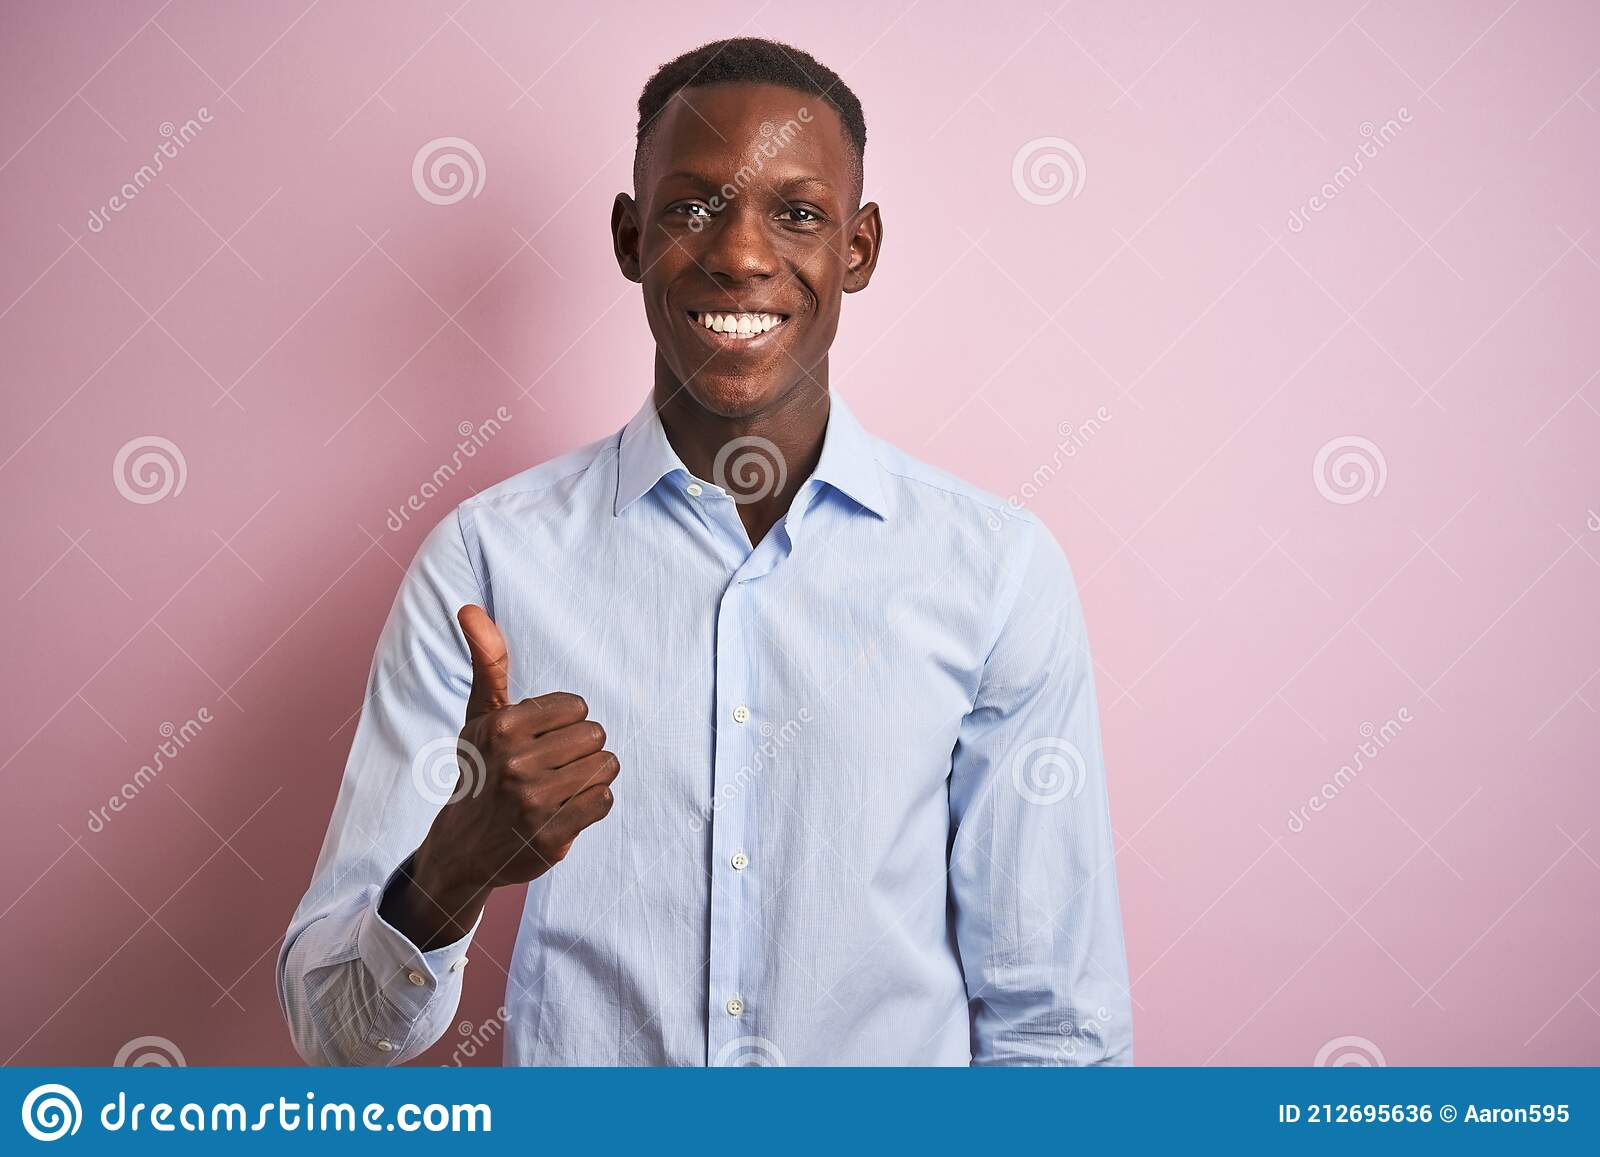thumbsUp: (430, 598, 637, 902)
